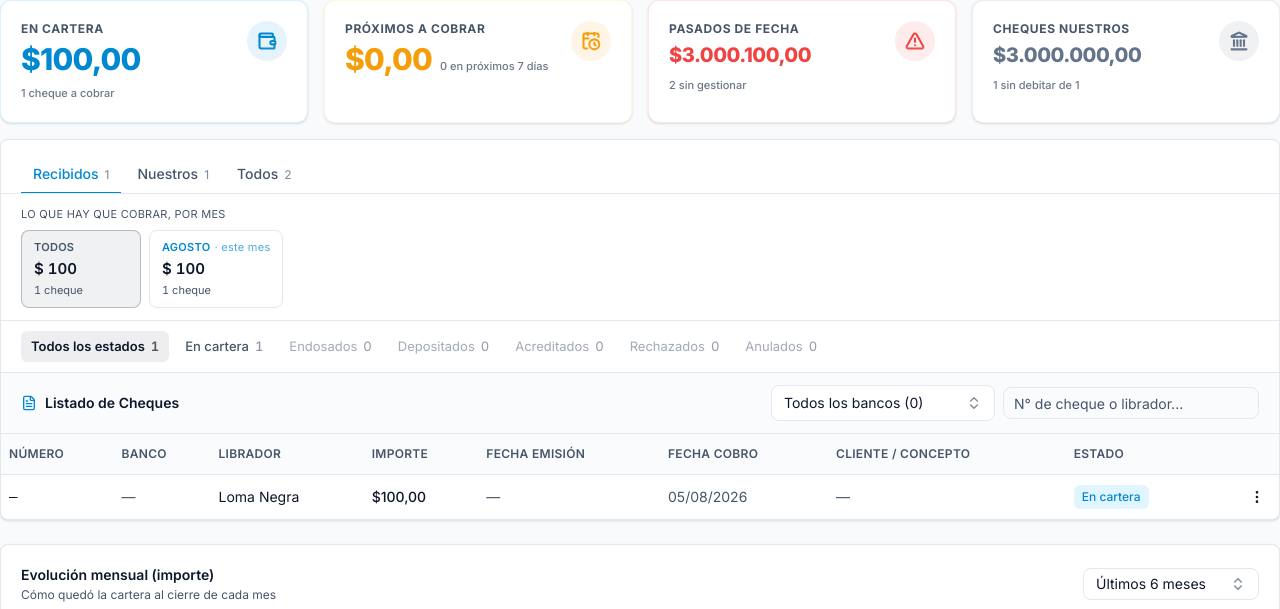
Test case: ChequesList — separación por origen › pasarle a un tercero un cheque recibido es endosarlo, no entregarlo
Expected: the button "Endosados 0" is shown, [279,330,382,362]
Y la acción de la fila.
Click the button named "Acciones del cheque": (1257, 496) [1243,482,1271,510]
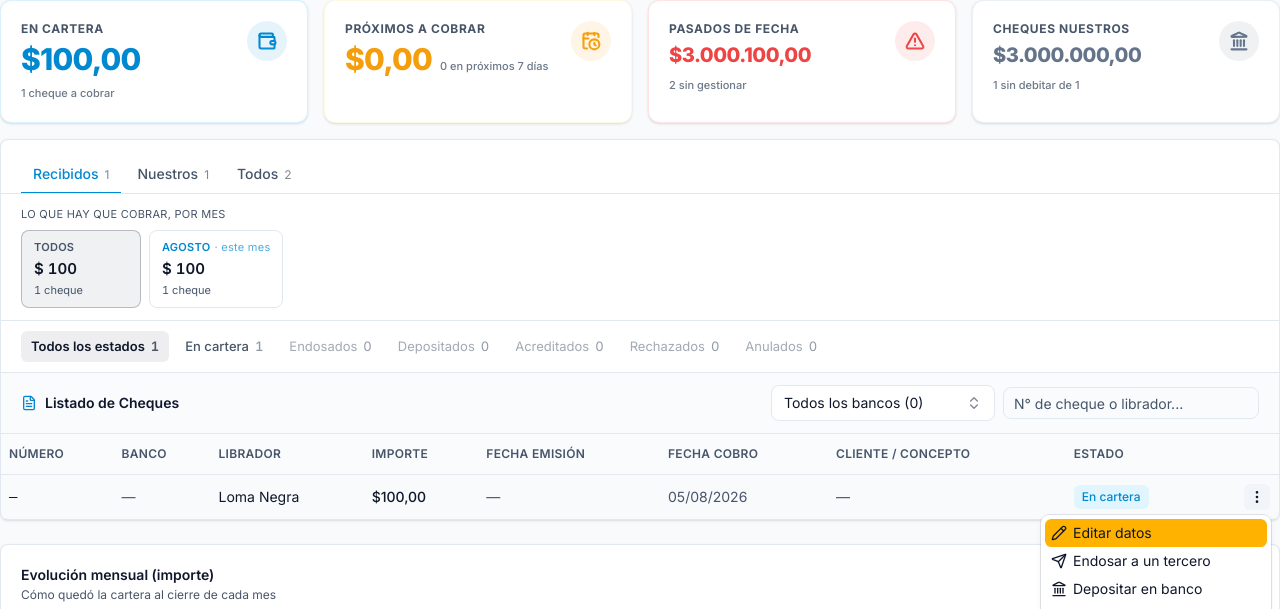
Expected: the menu item "Endosar a un tercero" is shown, [1051,552,1211,569]
